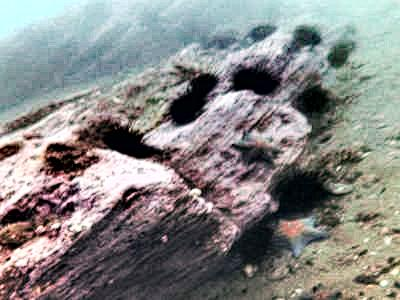urchin: (269, 165, 331, 218), (102, 117, 160, 163), (232, 60, 284, 94), (167, 90, 208, 125), (235, 224, 271, 263), (293, 84, 331, 115), (189, 62, 222, 95), (291, 22, 321, 47), (332, 46, 353, 71), (249, 23, 276, 41)
